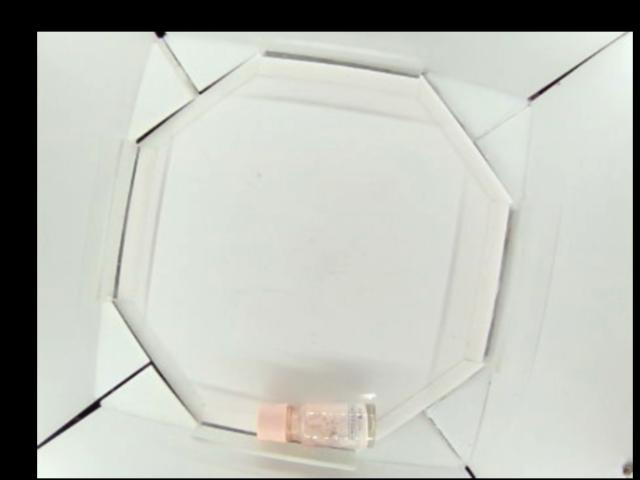Bottle: (256, 400, 375, 448)
